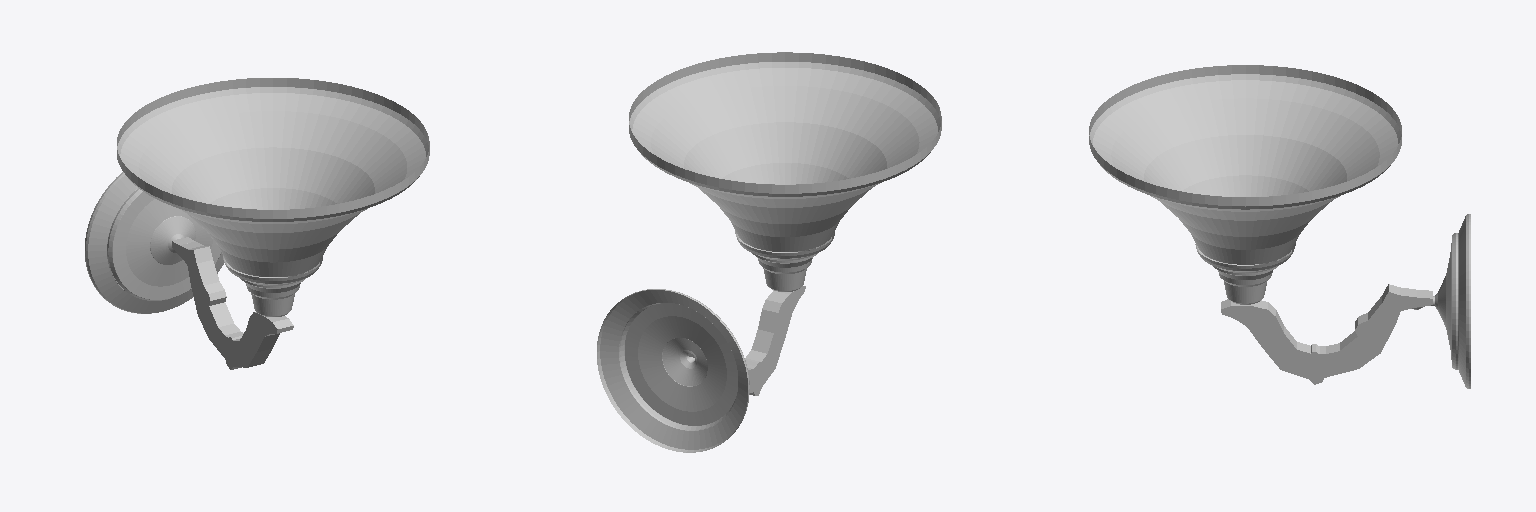
File: lampadaMuro.obj
3 renders of one model, left to right at view 1: azimuth 30°, elevation 25°; view 2: azimuth 150°, elevation 25°; view 3: azimuth 270°, elevation 25°, orthographic.
Parts seen in each view (by area): view 1: Object_1; view 2: Object_1; view 3: Object_1.
Part boxes in pixels (left/top/right/bottom): Object_1: left=85, top=78, right=429, bottom=369; Object_1: left=597, top=52, right=941, bottom=452; Object_1: left=1089, top=65, right=1470, bottom=388.
Size of the model in its own units: 0.25 by 0.22 by 0.305.